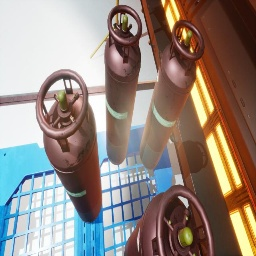NitrogenTank ,: (35, 69, 102, 223), (140, 20, 205, 170), (124, 184, 216, 256), (104, 5, 142, 165)
